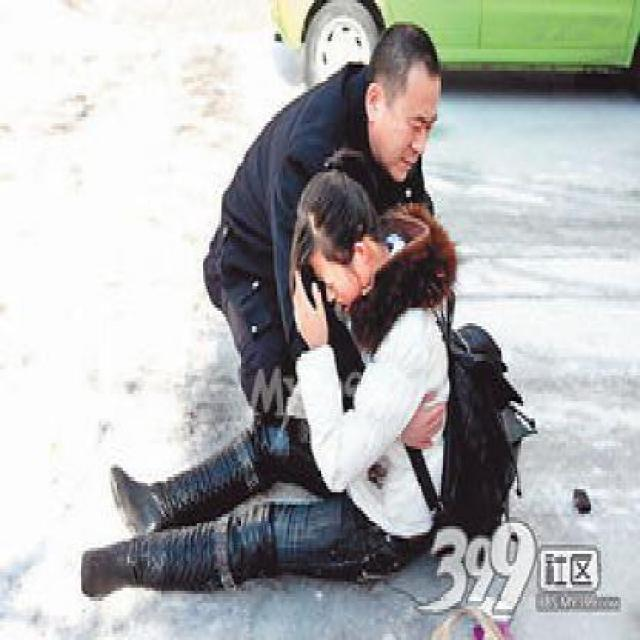fall: (64, 160, 504, 609)
